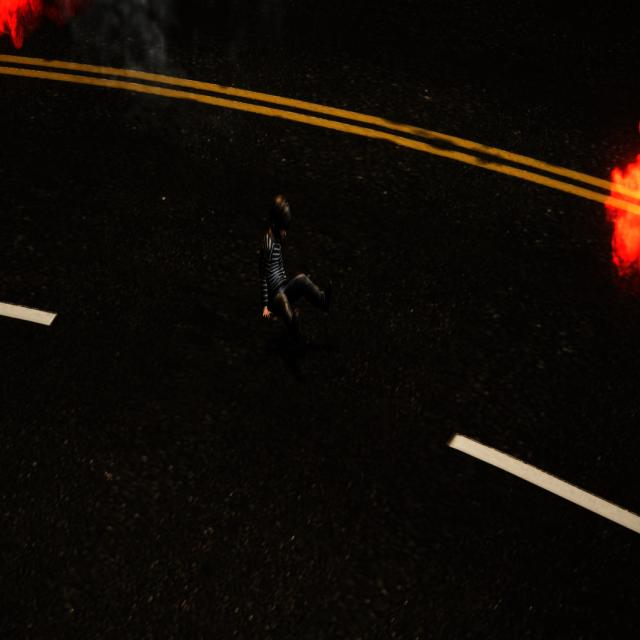Human: (254, 185, 337, 341)
